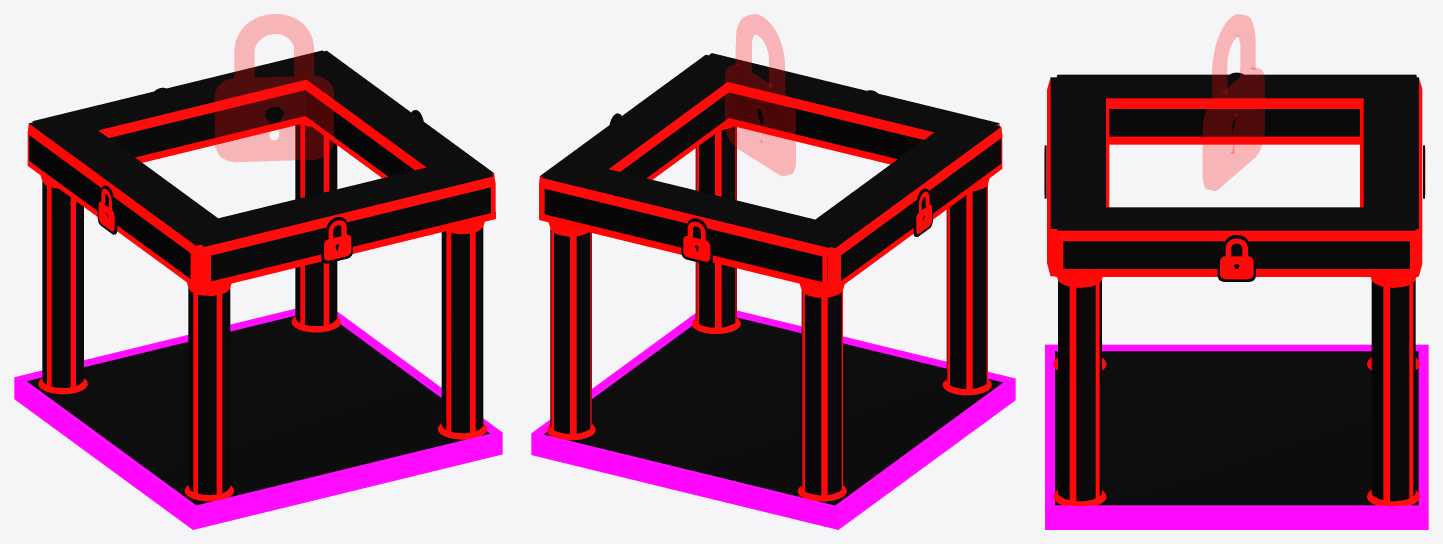
File: Portao_Chave_Fechado_R00.fbx
3 views of the same model, side by side, from view 1: azimuth 30°, elevation 25°; view 2: azimuth 150°, elevation 25°; view 3: azimuth 270°, elevation 25° (orthographic). The views are drawn at different scales.
Parts seen in each view (by area): view 1: pCube1, Batente1, Batente, Batente3, Batente4, pPlane4, pPlane10, pPlane9; view 2: pCube1, Batente1, Batente, Batente4, Batente3, pPlane4, pPlane11, pPlane9; view 3: pCube1, Batente, Batente1, Batente3, Batente4, pPlane4, pPlane8.
Boxes of the visible parts, x1,y1,x2,y2 form: pCube1: (14, 309, 502, 529); Batente1: (27, 120, 239, 501); Batente: (282, 50, 494, 439); Batente3: (179, 161, 495, 290); Batente4: (32, 50, 346, 162); pPlane4: (215, 14, 333, 161); pPlane10: (321, 217, 352, 263); pPlane9: (97, 185, 117, 234); pCube1: (531, 310, 1015, 529); Batente1: (791, 116, 1002, 501); Batente: (539, 54, 749, 440); Batente4: (539, 159, 854, 290); Batente3: (691, 53, 999, 164); pPlane4: (725, 14, 795, 175); pPlane11: (681, 218, 712, 264); pPlane9: (913, 188, 932, 236); pCube1: (1045, 344, 1428, 529); Batente: (1053, 207, 1419, 505); Batente1: (1053, 74, 1419, 370); Batente3: (1047, 77, 1109, 276); Batente4: (1360, 77, 1422, 276); pPlane4: (1203, 14, 1264, 190); pPlane8: (1217, 235, 1255, 281).
Bounding box in the file's own units: 1.05 × 1.3 × 1.04.
